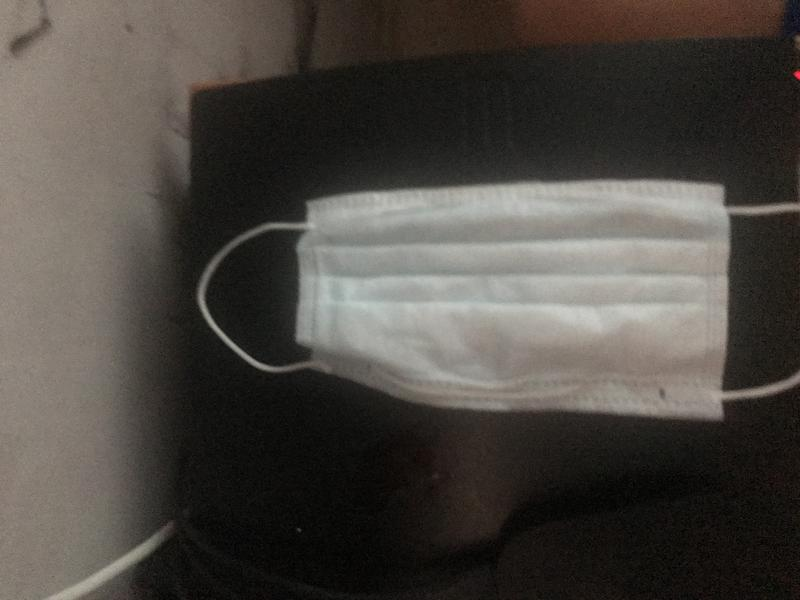medical_mask: (196, 180, 800, 418)
